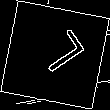L_SW: (25, 28, 85, 82)
